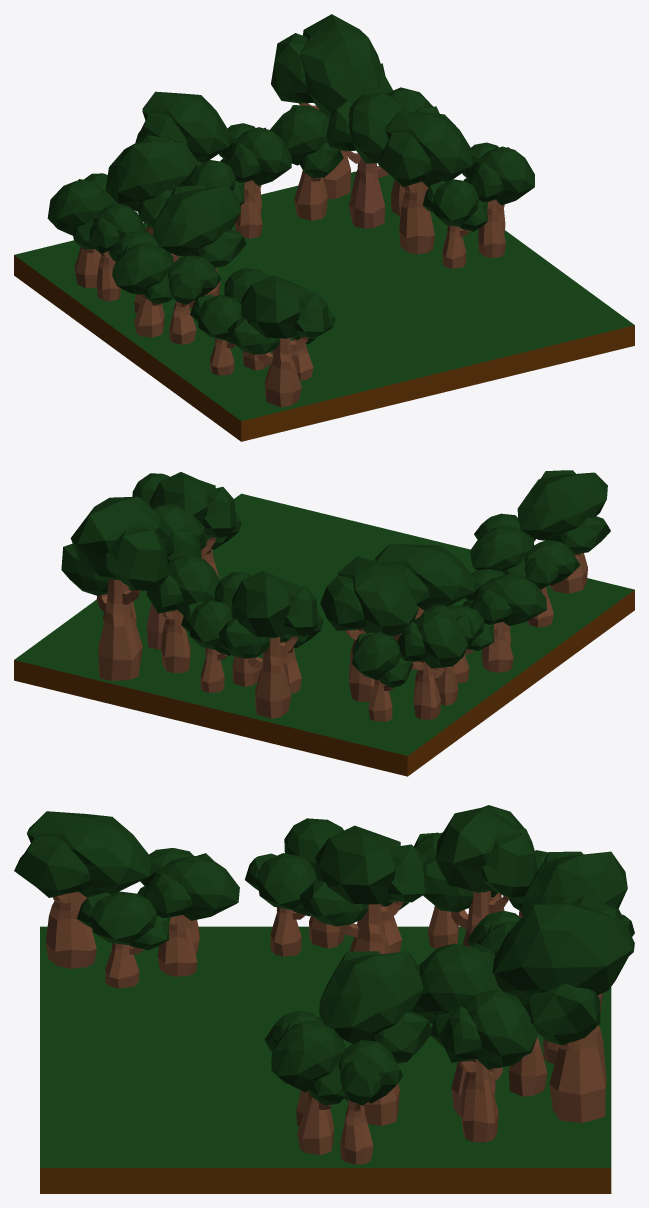
The model's file is Tile.fbx.
3 views of the same model, one above another, from view 1: azimuth 30°, elevation 25°; view 2: azimuth 150°, elevation 25°; view 3: azimuth 270°, elevation 25° (orthographic). The views are drawn at different scales.
Parts seen in each view (by area): view 1: Trees, Ground; view 2: Trees, Ground; view 3: Trees, Ground.
Part boxes in pixels (bbox=[...]): Trees: bbox=[47, 14, 534, 407]; Ground: bbox=[14, 165, 634, 441]; Trees: bbox=[61, 470, 610, 721]; Ground: bbox=[14, 493, 634, 776]; Trees: bbox=[14, 805, 634, 1164]; Ground: bbox=[40, 926, 611, 1193].
Size of the model in its own units: 429 by 182 by 435.
